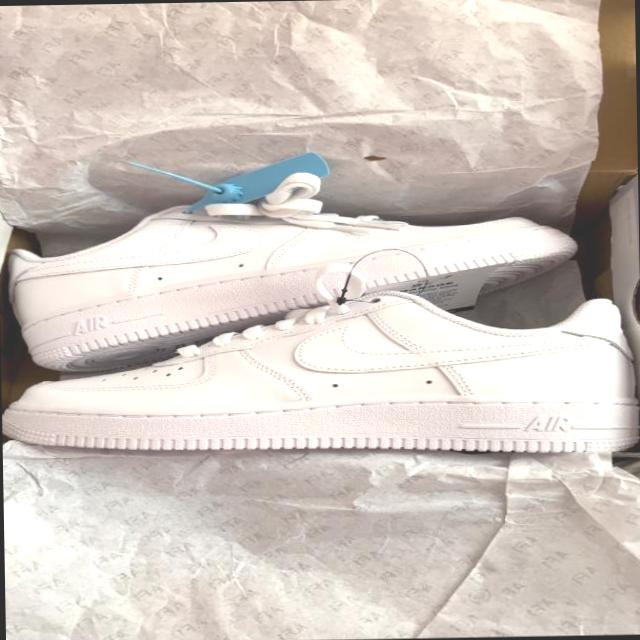nike_original_airforce: (0, 280, 640, 465), (0, 198, 588, 371)
